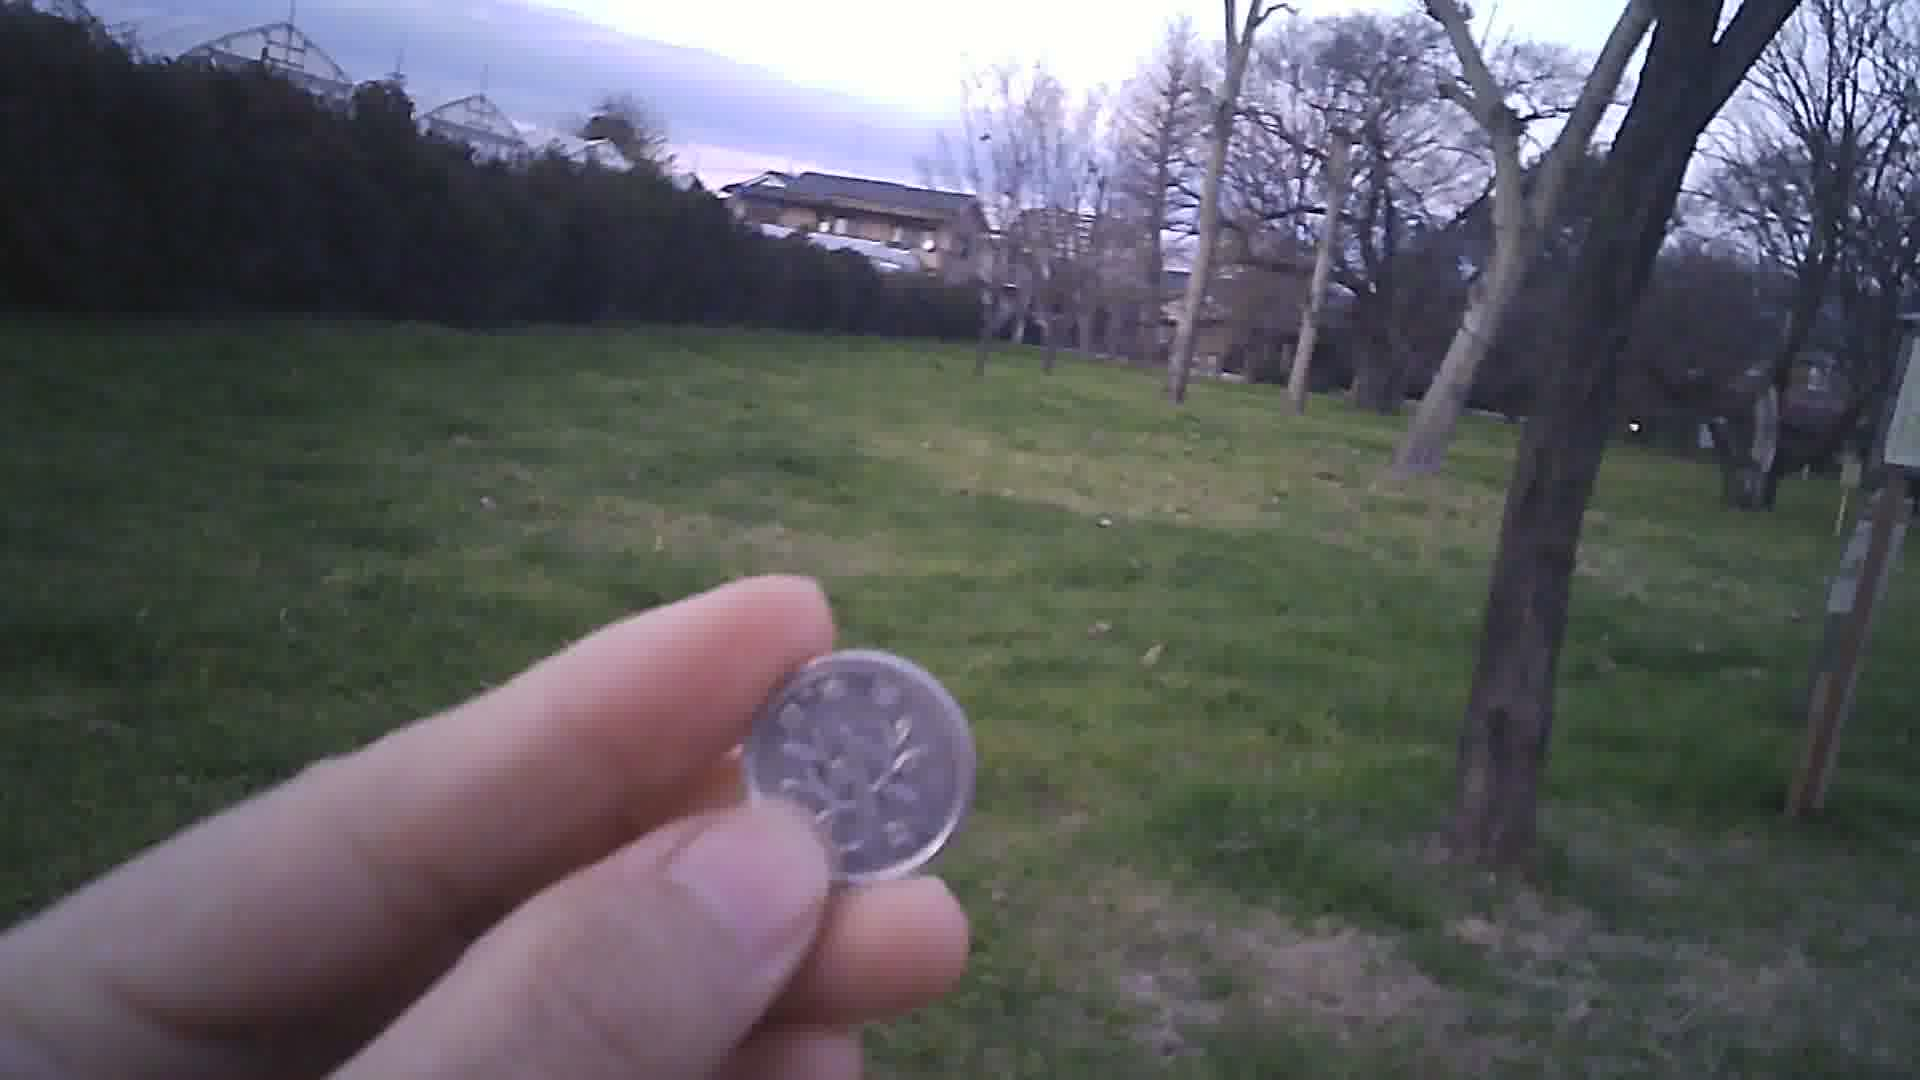1 Yen: (735, 636, 981, 885)
